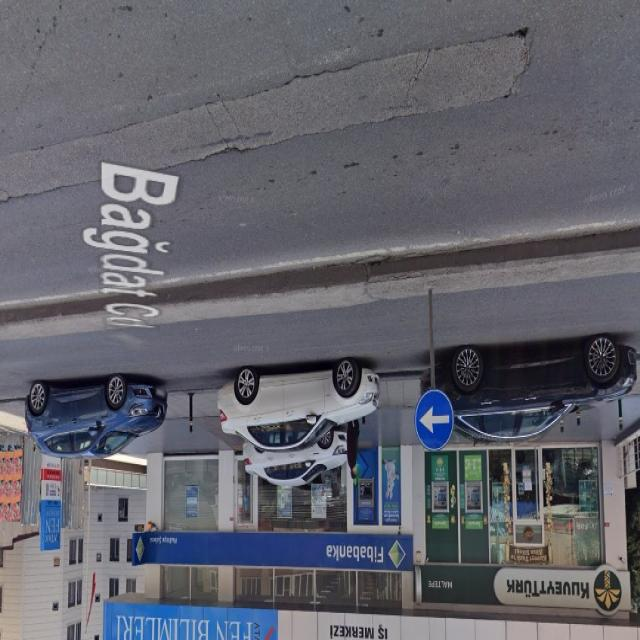Turn Left: (413, 384, 453, 452)
